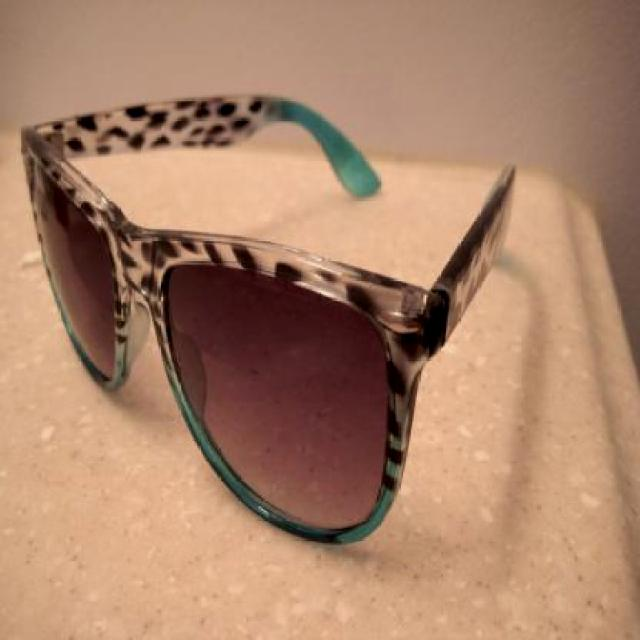glasses: (18, 81, 533, 558)
